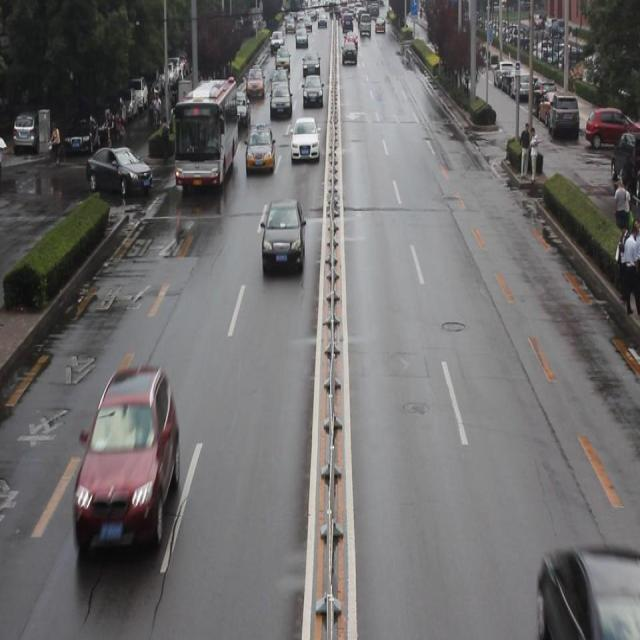car: (73, 368, 179, 552), (535, 538, 640, 634), (85, 144, 152, 194), (262, 203, 305, 269), (246, 125, 274, 168), (290, 118, 319, 159), (228, 91, 250, 132), (269, 78, 291, 116)
van: (175, 76, 236, 187)
